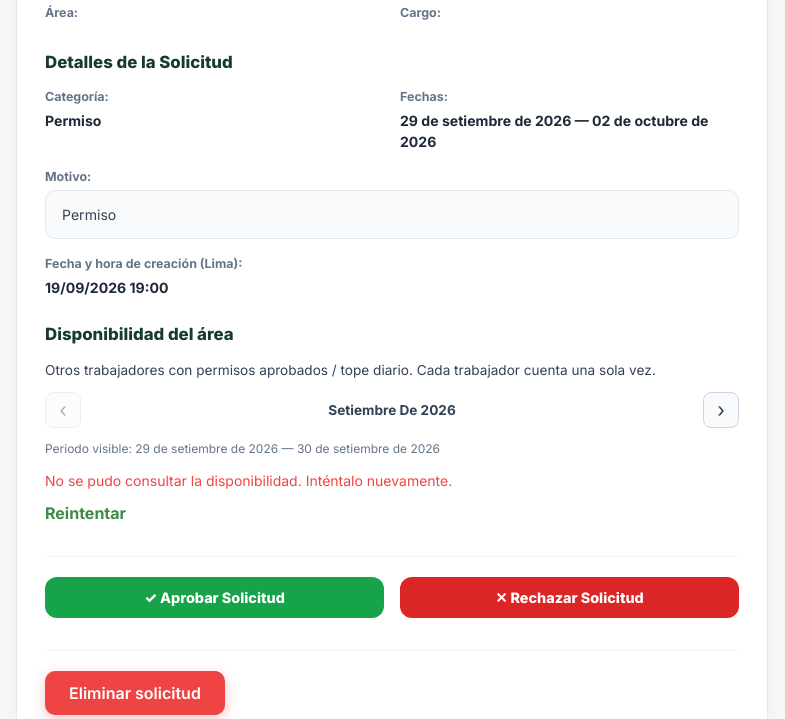
Detalle RRHH: disponibilidad informativa › un error no se interpreta como disponibilidad y permite reintentar
(page scrolled)
Click the button with class "doc-link". click: (86, 513)
box: [45,503,126,523]
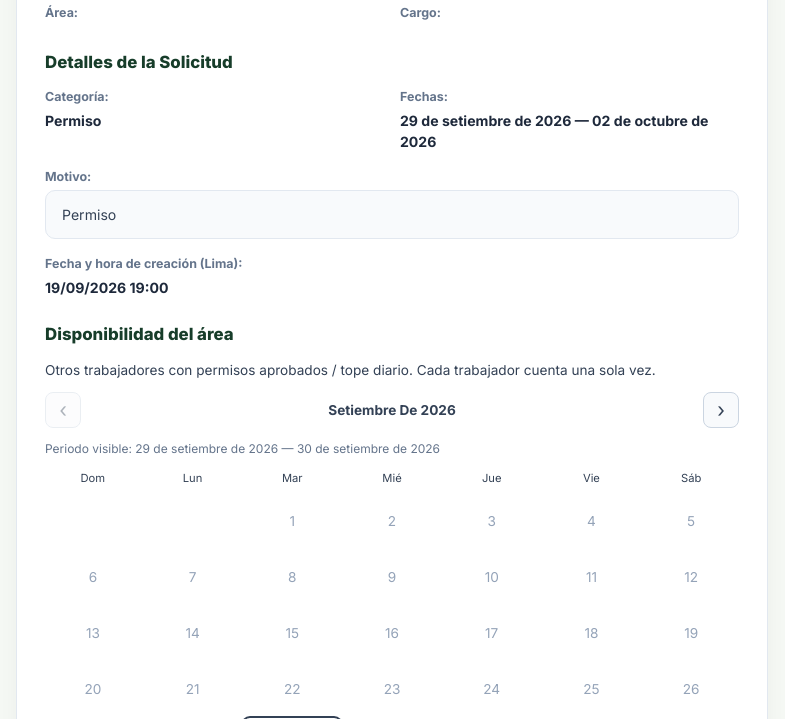
Now the message "No se pudo consultar la disponibilidad. Inténtalo nuevamente." is gone
